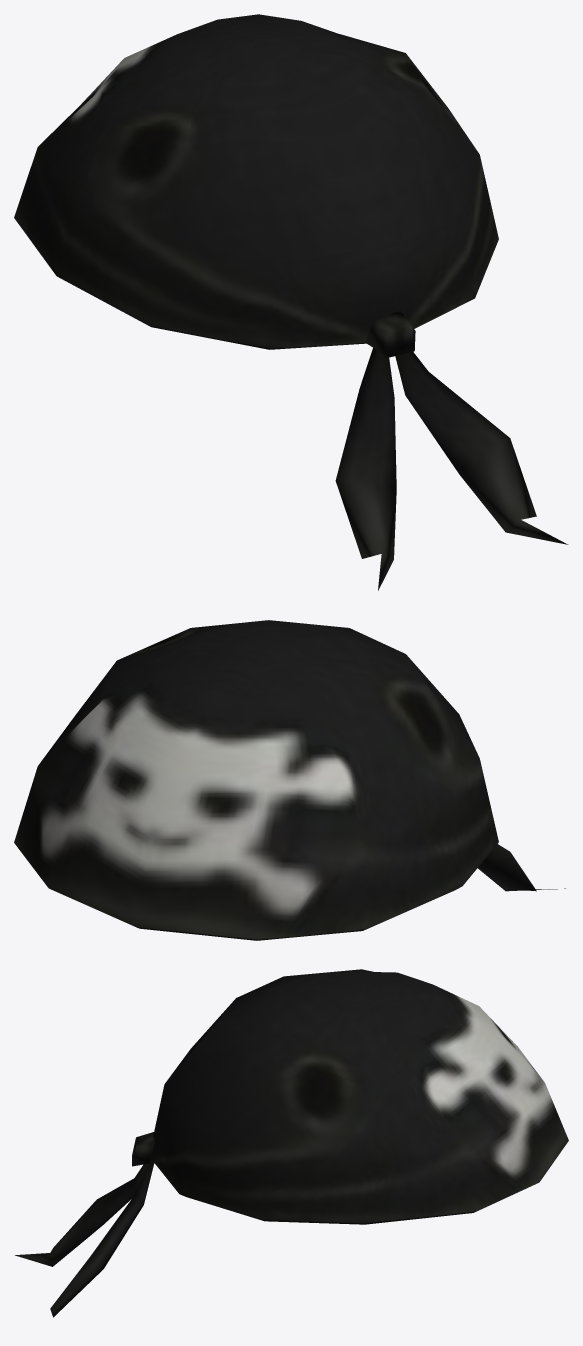
Rendered from pirateBandanaR.glb.
The picture shows the model from 3 angles, top to bottom: view 1: azimuth 30°, elevation 25°; view 2: azimuth 150°, elevation 25°; view 3: azimuth 270°, elevation 25°; orthographic projection. The views are drawn at different scales.
Visible parts, largest first — view 1: pirateBandanaR; view 2: pirateBandanaR; view 3: pirateBandanaR.
Part boxes in pixels (bbox=[...]): pirateBandanaR: bbox=[14, 14, 568, 590]; pirateBandanaR: bbox=[14, 620, 565, 940]; pirateBandanaR: bbox=[15, 969, 568, 1317].
Bounding box in the file's own units: 0.3681 × 0.3227 × 0.5318.
1 material, 1 textured.
